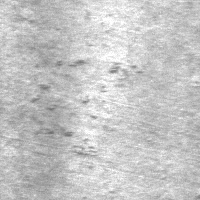rolled-in_scale: (25, 56, 124, 158)
